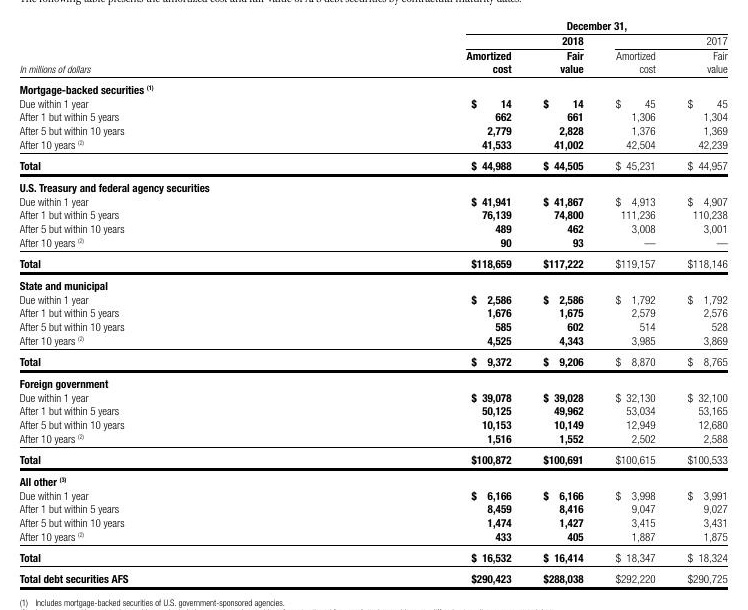table: (0, 0, 748, 610)
